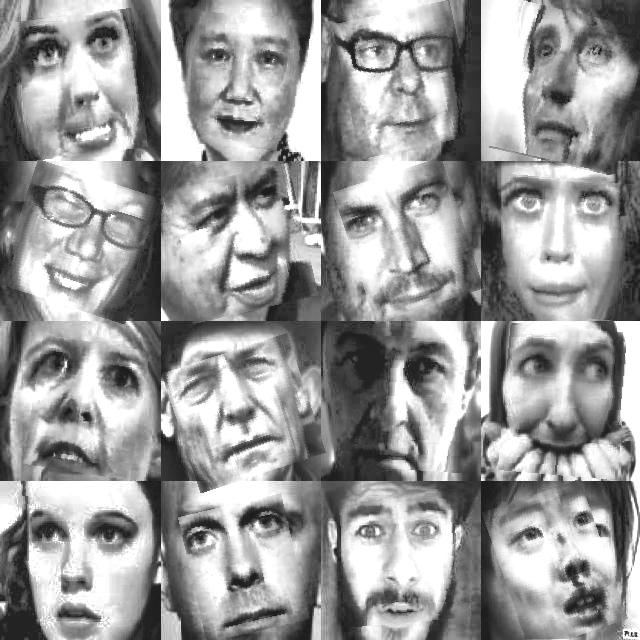angry: (18, 12, 144, 158), (28, 338, 146, 477)
fear: (492, 485, 617, 640), (501, 326, 627, 478), (502, 177, 628, 318), (20, 496, 152, 626), (341, 490, 468, 624)
happy: (6, 168, 156, 316), (169, 170, 312, 318)
neutral: (170, 342, 318, 484), (343, 164, 475, 316), (338, 6, 472, 154), (338, 336, 476, 472), (183, 14, 309, 150), (184, 498, 304, 637)
sad: (496, 5, 640, 169)
